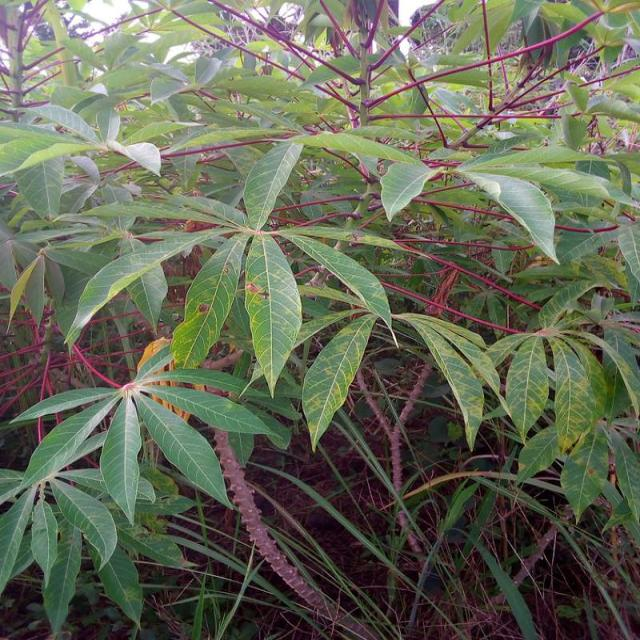cassava leaf: (1, 0, 638, 636), (300, 312, 376, 452), (244, 230, 302, 398)
